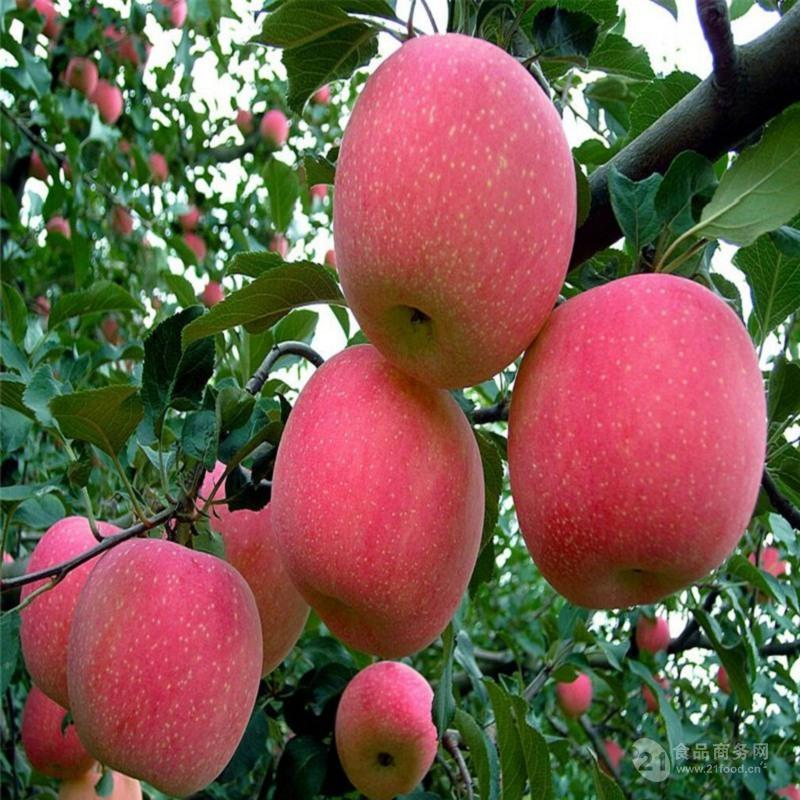apple: (328, 27, 575, 380), (504, 276, 767, 606), (266, 344, 492, 654), (72, 535, 264, 792), (333, 659, 437, 797), (633, 607, 669, 657), (555, 672, 591, 715), (199, 280, 224, 307)
